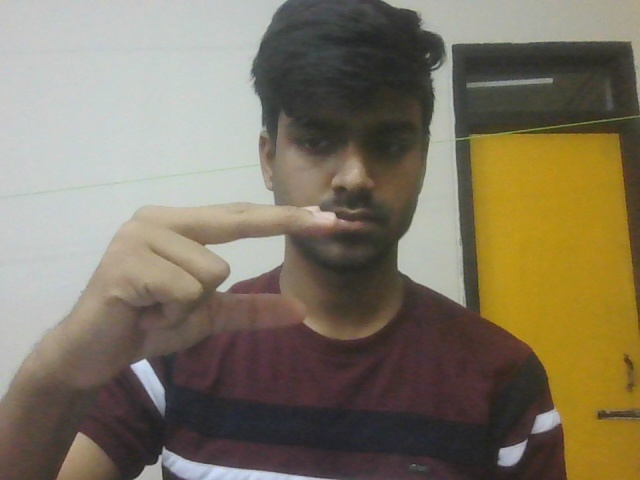no: (28, 189, 364, 402)
